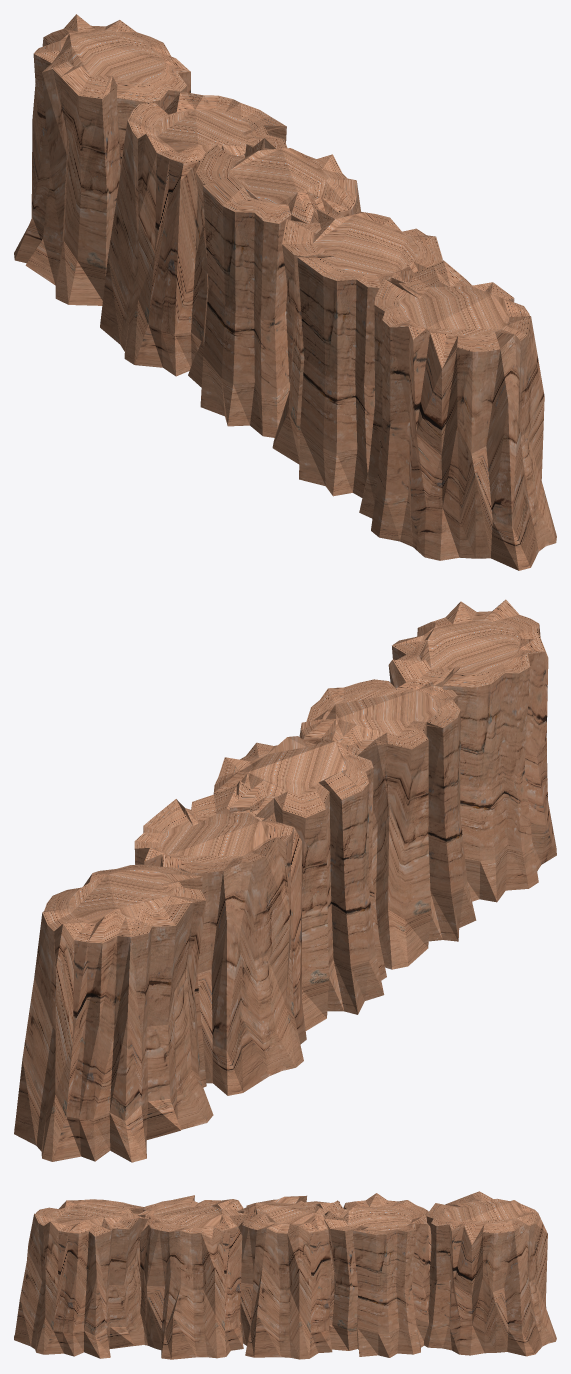
File: cliffside.FBX
3 renders of one model, top to bottom at view 1: azimuth 30°, elevation 25°; view 2: azimuth 150°, elevation 25°; view 3: azimuth 270°, elevation 25°, orthographic. The views are drawn at different scales.
Parts seen in each view (by area): view 1: Cylinder001; view 2: Cylinder001; view 3: Cylinder001.
Boxes of the visible parts, x1=… form: Cylinder001: x1=14, y1=14, x2=556, y2=570; Cylinder001: x1=14, y1=599, x2=556, y2=1162; Cylinder001: x1=14, y1=1191, x2=556, y2=1359.
Size of the model in its own units: 1010 by 1376 by 5155.
Materials: 1 (1 with a texture image).
